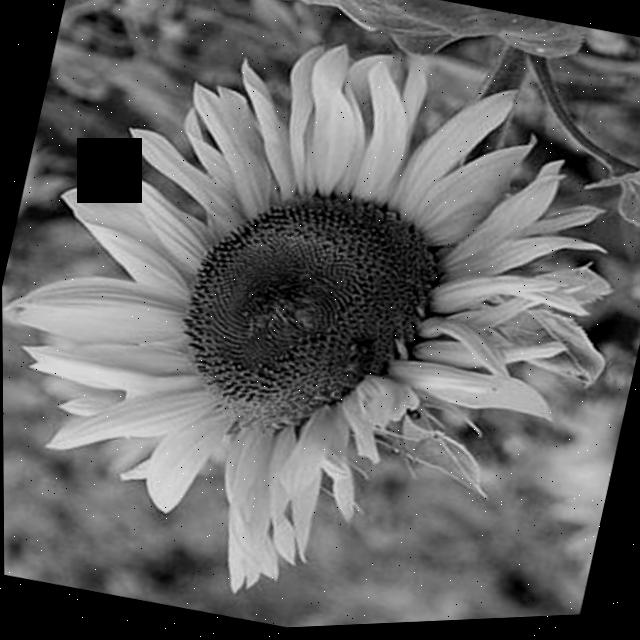sunflower: (0, 0, 582, 640)
